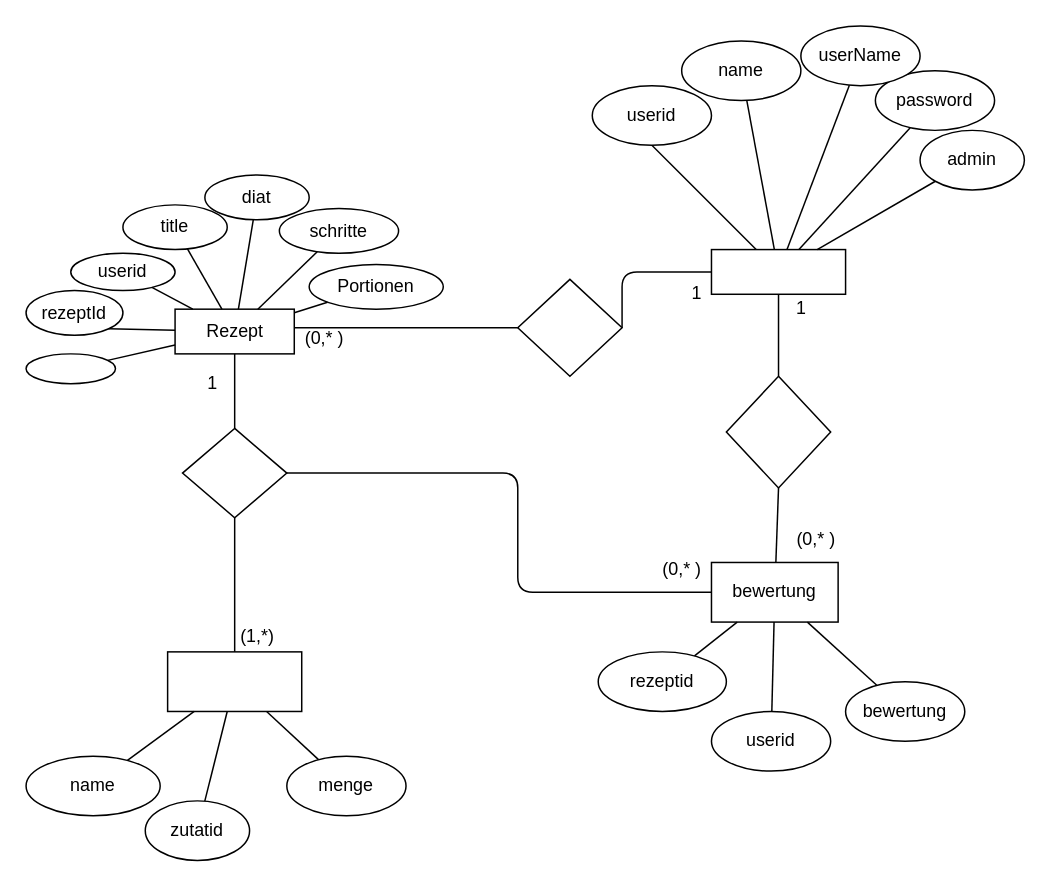
Some shapes in this 1050 by 887 pixel diagram are drawn without their labels. The centre of each missing label's shape, as x and y in pixels:
"erstellt" belongs at (x=569, y=327).
"hat" belongs at (x=234, y=472).
"macht" belongs at (x=778, y=431).
"rate" belongs at (x=70, y=368).
"User" belongs at (x=778, y=271).
"Zutaten" belongs at (x=234, y=680).
